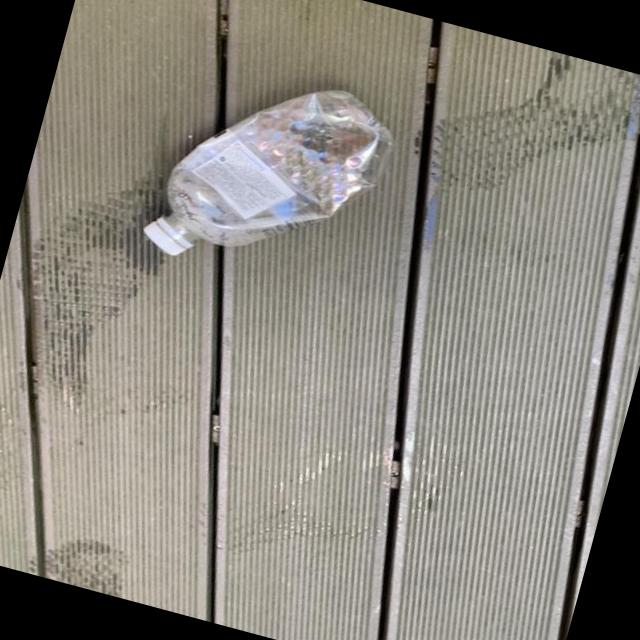plastic_bottle: (140, 50, 406, 304)
